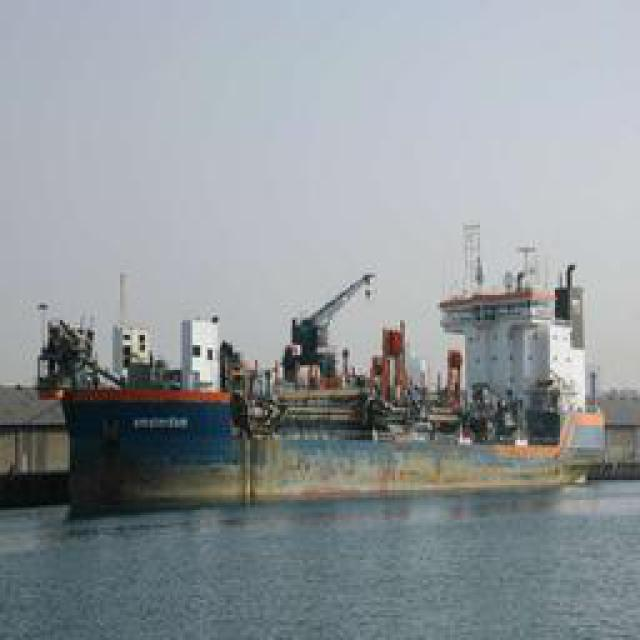Ship: (40, 207, 613, 521)
